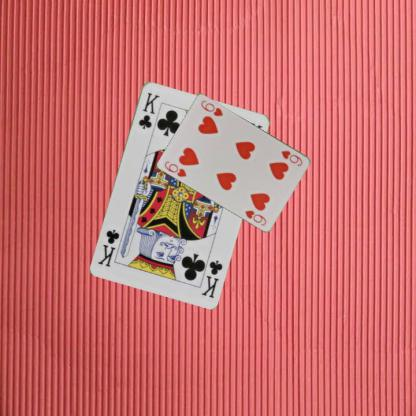6h: (162, 158, 188, 178), (279, 148, 304, 167)
Kc: (198, 257, 224, 299), (136, 90, 161, 130)
